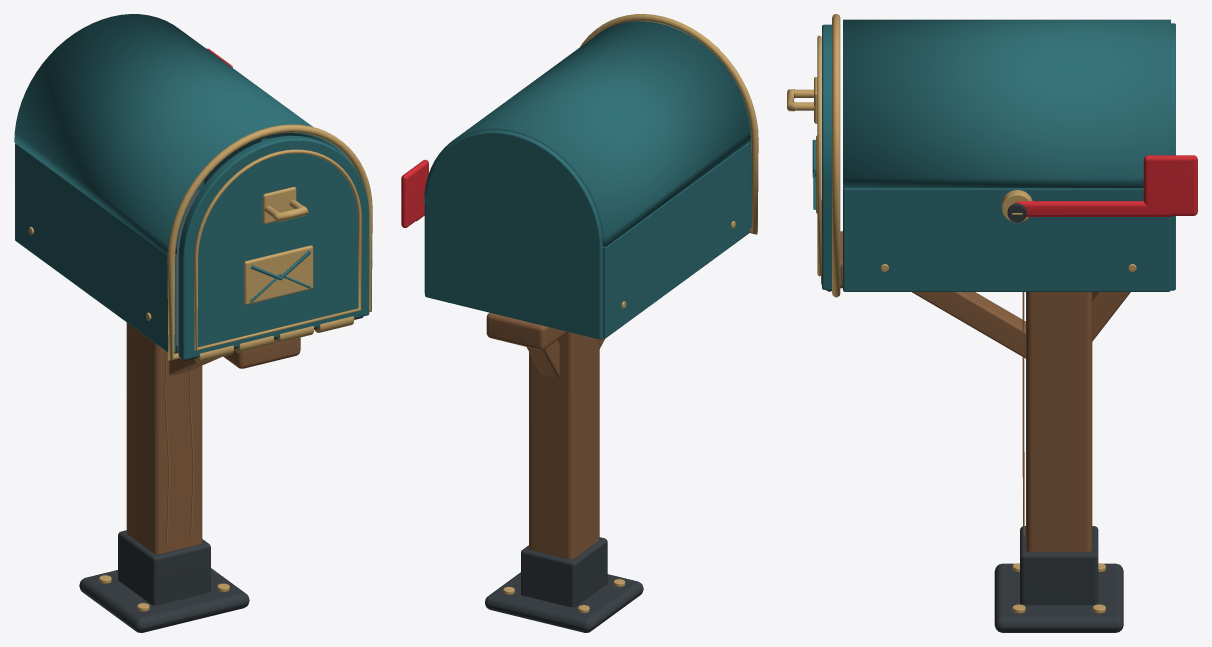
Rendered from mailbox.glb.
3 views of the same model, side by side, from view 1: azimuth 30°, elevation 25°; view 2: azimuth 150°, elevation 25°; view 3: azimuth 270°, elevation 25° (orthographic). The views are drawn at different scales.
Parts seen in each view (by area): view 1: Mailbox rounded roof, Mailbox hinged door, Mailbox side wall, Walnut post, Post shoe, Mounting foot, Brass opening rim, Envelope plaque, Door inset reveal, Timber support arm, Latch escutcheon, Mailbox floor; view 2: Mailbox rounded roof, Mailbox rear cap, Walnut post, Mailbox side wall, Post shoe, Mounting foot, Brass opening rim, Timber support arm, Red flag paddle, Post diagonal brace.001; view 3: Mailbox rounded roof, Mailbox side wall.001, Walnut post, Mounting foot, Post shoe, Red flag paddle, Post diagonal brace, Mailbox hinged door, Brass opening rim, Red flag lever, Door inset reveal, Mailbox rear cap (+2 smaller).
Part boxes in pixels (x1,y1,x2,y2): Mailbox rounded roof: (14,14,350,254); Mailbox hinged door: (178,135,369,359); Mailbox side wall: (15,143,175,352); Walnut post: (126,322,202,553); Post shoe: (118,530,210,605); Mounting foot: (79,568,249,632); Brass opening rim: (167,124,372,360); Envelope plaque: (244,245,313,304); Door inset reveal: (194,149,361,350); Timber support arm: (223,337,300,368); Latch escutcheon: (262,187,296,223); Mailbox floor: (175,190,200,352); Mailbox rounded roof: (424,21,750,246); Mailbox rear cap: (425,130,602,339); Walnut post: (529,332,599,559); Mailbox side wall: (603,142,749,338); Post shoe: (521,537,607,607); Mounting foot: (485,572,643,632); Brass opening rim: (580,14,758,234); Timber support arm: (486,312,567,350); Red flag paddle: (401,159,428,227); Post diagonal brace.001: (526,340,559,377); Mailbox rounded roof: (843,19,1170,188); Mailbox side wall.001: (843,188,1170,291); Walnut post: (1026,292,1092,552); Mounting foot: (994,563,1123,632); Post shoe: (1020,526,1098,605); Red flag paddle: (1143,155,1197,215); Post diagonal brace: (912,292,1025,358); Mailbox hinged door: (822,24,831,289); Brass opening rim: (832,14,840,297); Red flag lever: (1014,201,1172,216); Door inset reveal: (817,35,821,276); Mailbox rear cap: (1170,23,1175,290).
Bounding box in the file's own units: 0.7649 × 1.84 × 1.18.
